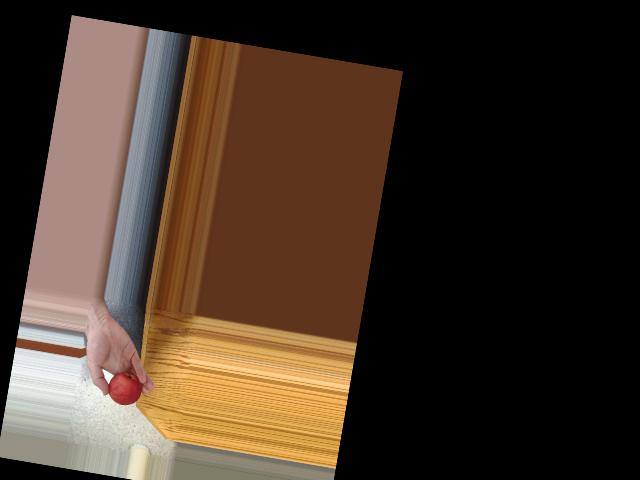apple: (100, 366, 144, 408)
